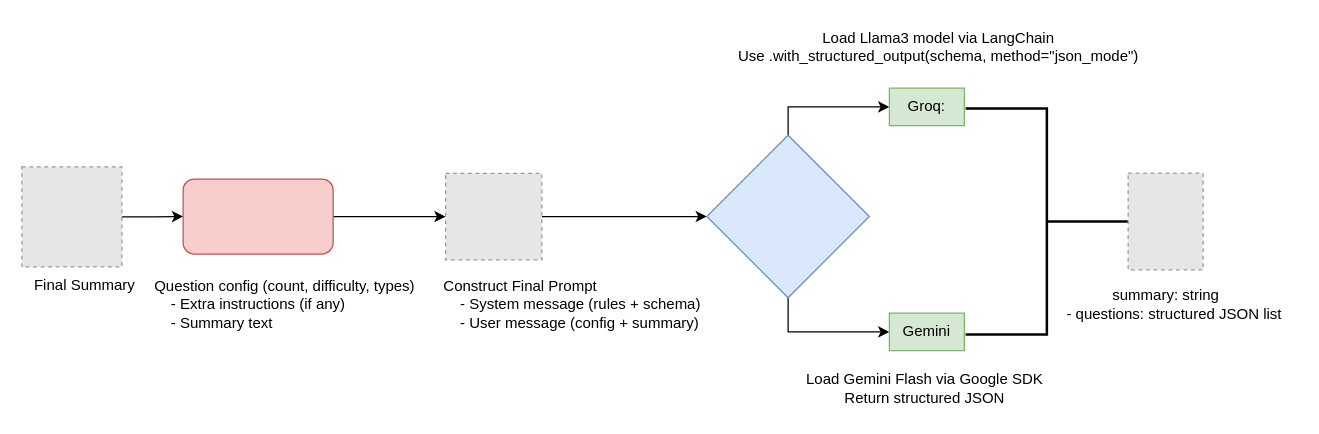
Some shapes in this 1319 by 434 pixel diagram are drawn without their labels. Grey dashed boxes stand in for pictures. Here are the shapes that lost their labels. From the top down, the centre of each, then its label:
the point at 257,216: Build Prompt Inputs
the point at 787,216: Select LLM
